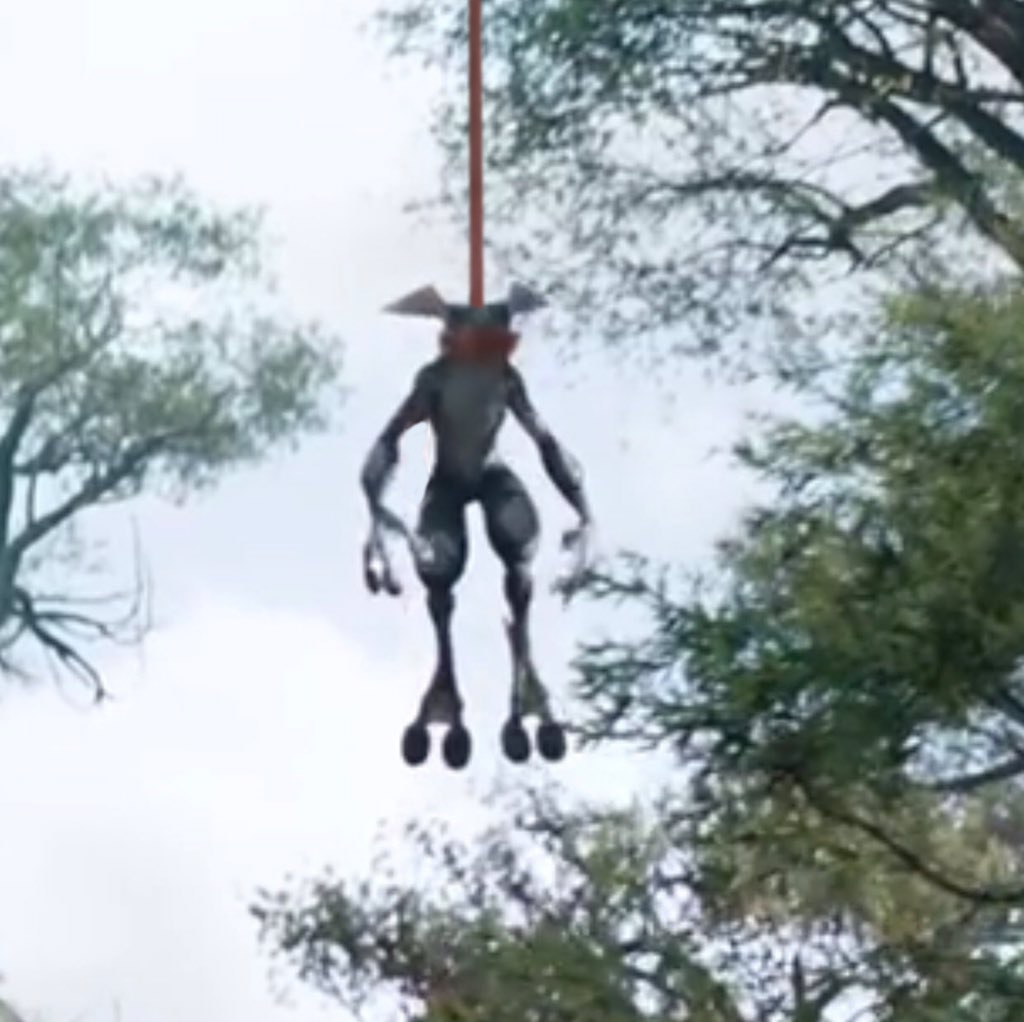greninja: (355, 265, 643, 770)
